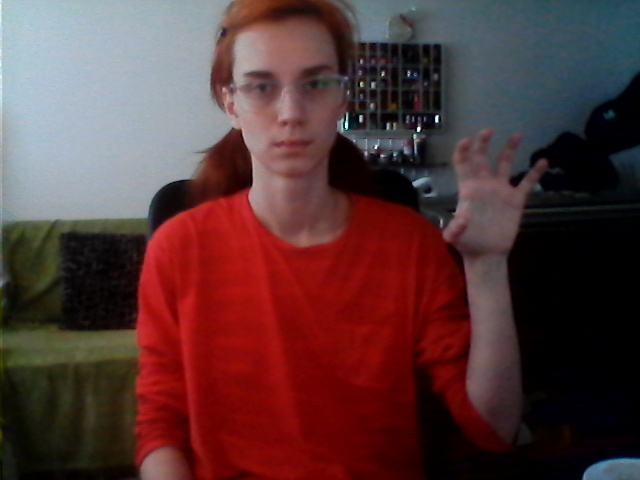budova: (422, 130, 554, 277)
